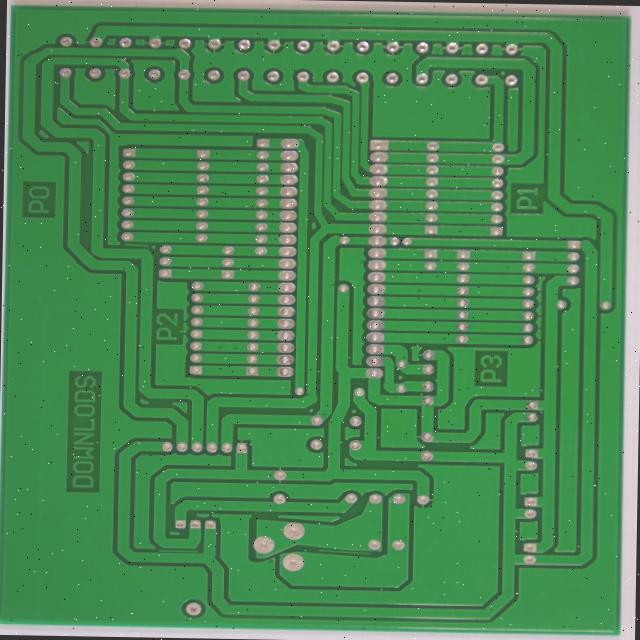spurious_copper: (263, 601, 327, 615), (77, 601, 127, 610), (37, 264, 68, 274)
